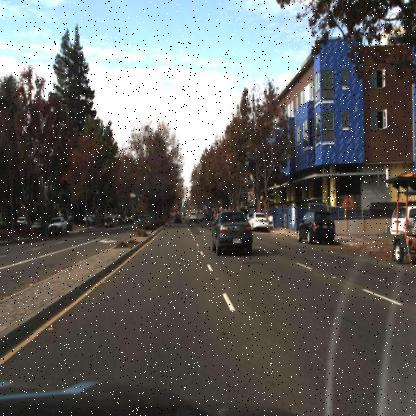car: (214, 209, 252, 256), (295, 211, 340, 244), (247, 212, 270, 232), (46, 216, 66, 237), (171, 208, 186, 227), (188, 207, 199, 224)
